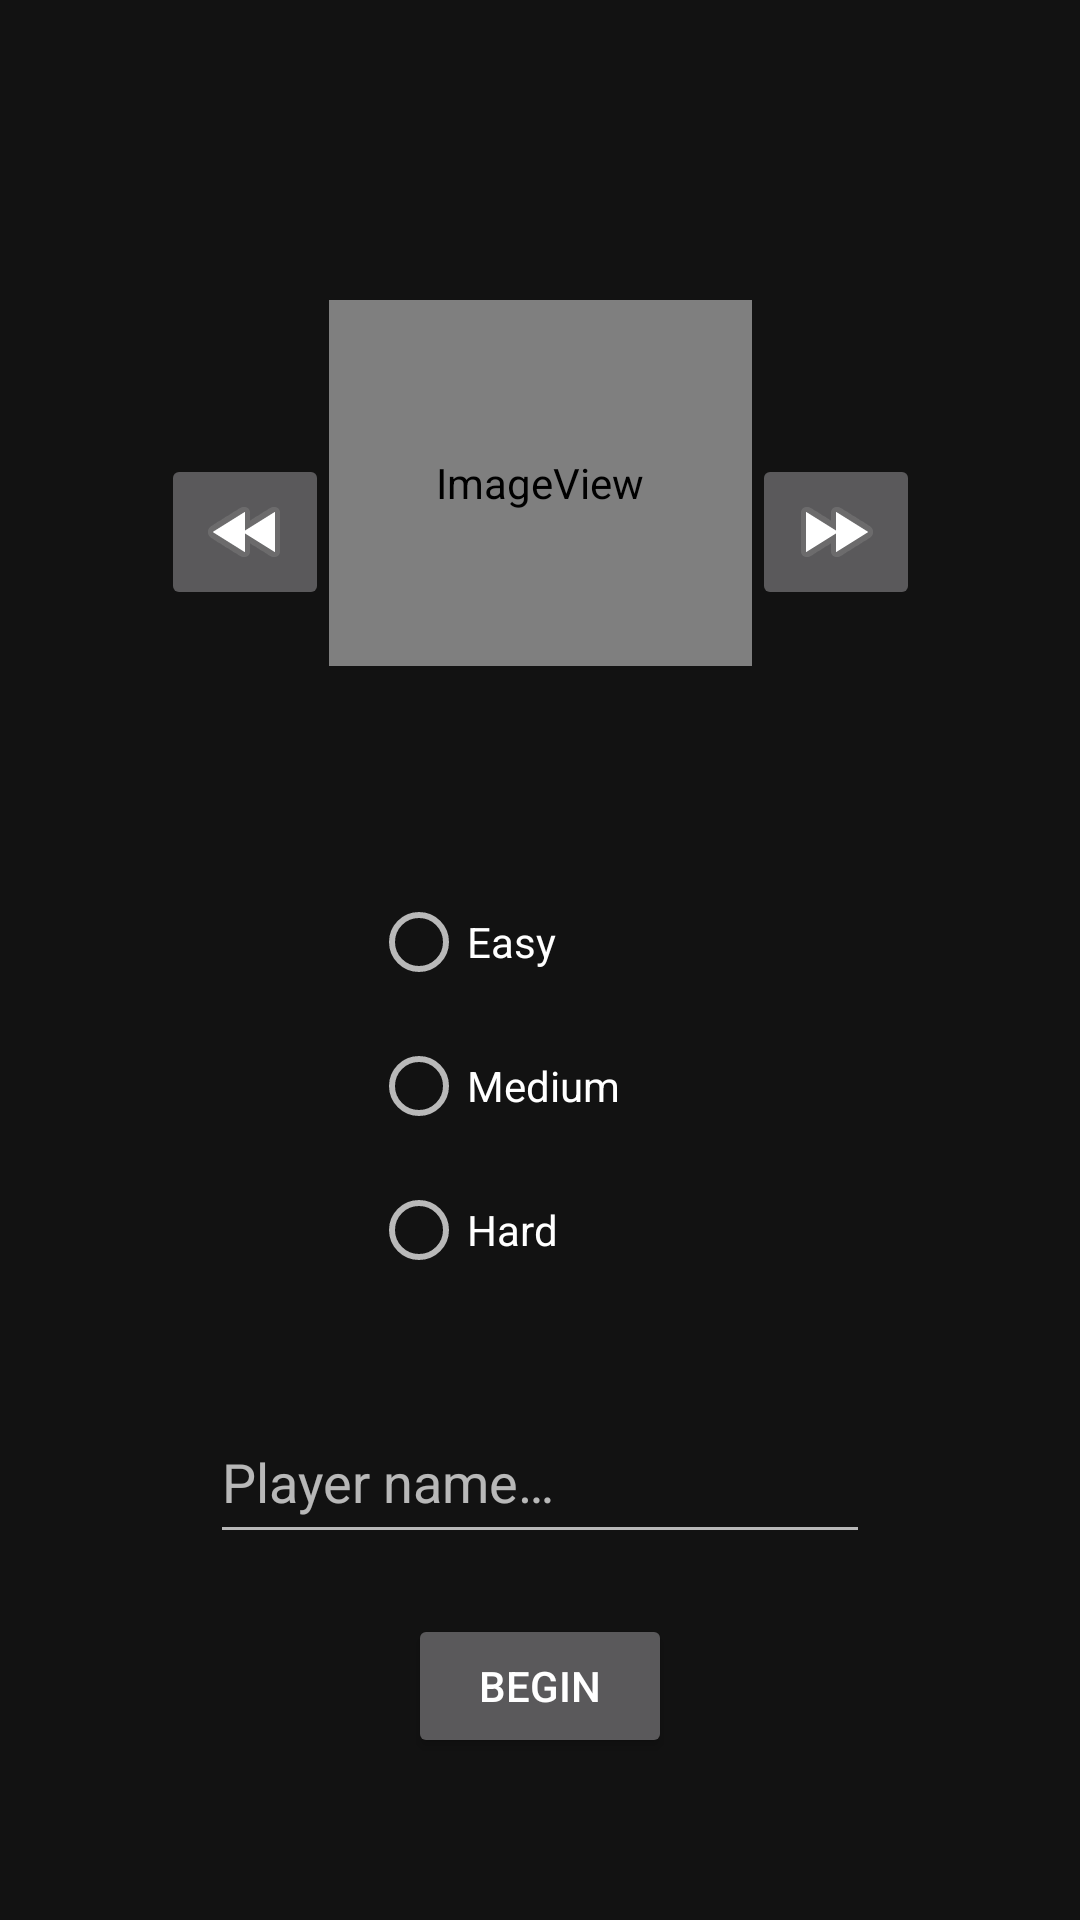

Named icons in this screenshot (1080 × 1920) and their centers, (x,y):
Go to next sprite: (836,532)
Go to previous sprite: (245,532)
